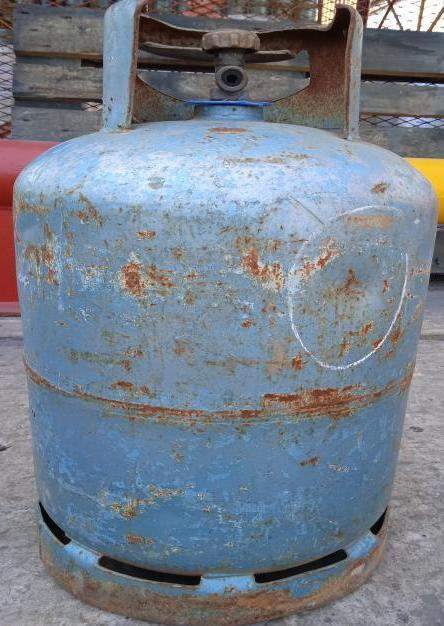cylinder: (1, 0, 444, 626)
